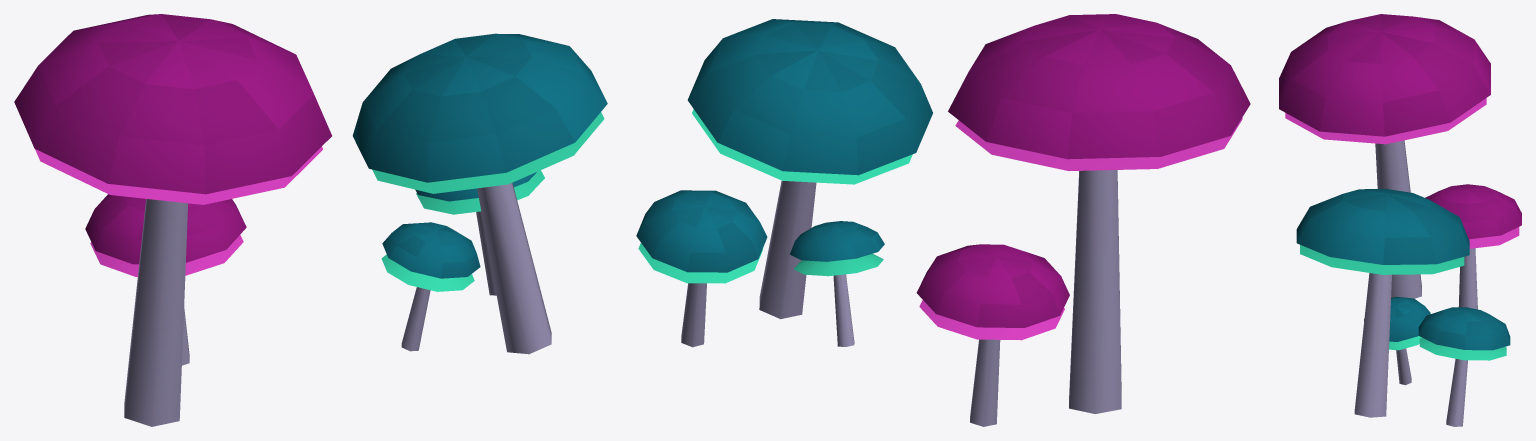
File: MODULE_ALIEN_FULL_1_SHROOMS.fbx
The picture shows the model from 3 angles, left to right: view 1: azimuth 30°, elevation 25°; view 2: azimuth 150°, elevation 25°; view 3: azimuth 270°, elevation 25°; orthographic projection. The views are drawn at different scales.
Visible parts, largest first — view 1: MODULE_ALIEN_FULL_1_SHROOMS_DECOR__export; view 2: MODULE_ALIEN_FULL_1_SHROOMS_DECOR__export; view 3: MODULE_ALIEN_FULL_1_SHROOMS_DECOR__export.
Part boxes in pixels (left/top/right/bottom): MODULE_ALIEN_FULL_1_SHROOMS_DECOR__export: left=14, top=14, right=607, bottom=426; MODULE_ALIEN_FULL_1_SHROOMS_DECOR__export: left=636, top=14, right=1250, bottom=426; MODULE_ALIEN_FULL_1_SHROOMS_DECOR__export: left=1279, top=14, right=1521, bottom=426.
Size of what is drawn, in the model's own units: 31.67 by 20.77 by 17.07.
